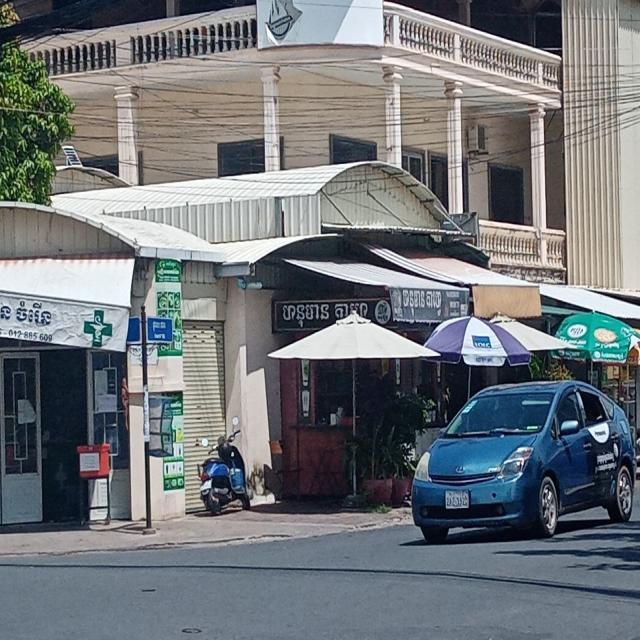1: (0, 291, 64, 333), (396, 287, 447, 324)
Yolov11kh: (272, 299, 332, 331)
